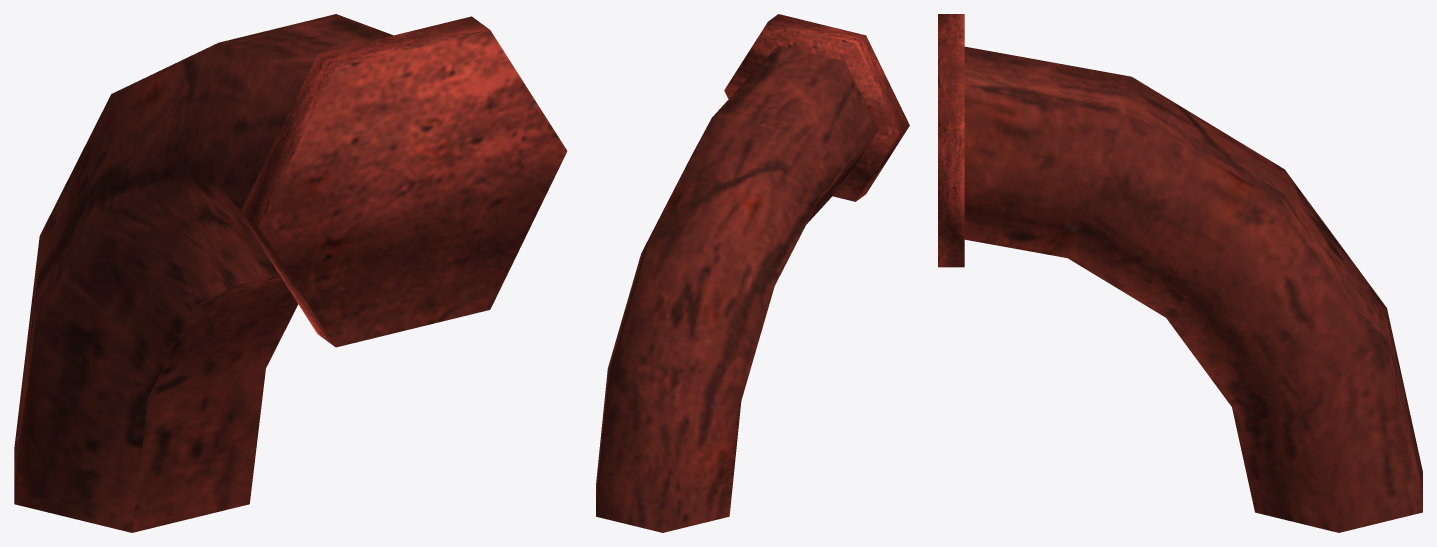
The model's file is small_red_4_elbow.fbx.
The picture shows the model from 3 angles, left to right: view 1: azimuth 30°, elevation 25°; view 2: azimuth 150°, elevation 25°; view 3: azimuth 270°, elevation 25°; orthographic projection. The views are drawn at different scales.
Visible parts, largest first — view 1: polySurface636; view 2: polySurface636; view 3: polySurface636.
Boxes of the visible parts, x1=… form: polySurface636: x1=14, y1=14, x2=567, y2=532; polySurface636: x1=596, y1=14, x2=909, y2=532; polySurface636: x1=938, y1=14, x2=1422, y2=532.
Size of the model in its own units: 0.6563 by 1.28 by 1.25.
